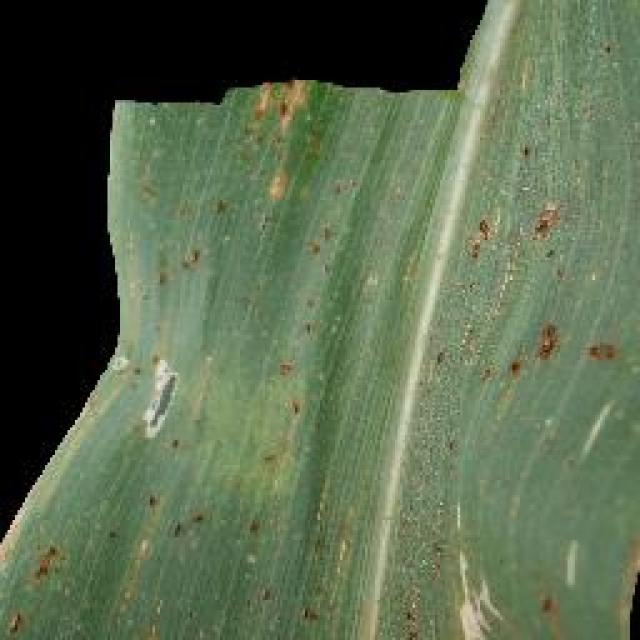Corn Common Rust: (154, 64, 618, 598)
